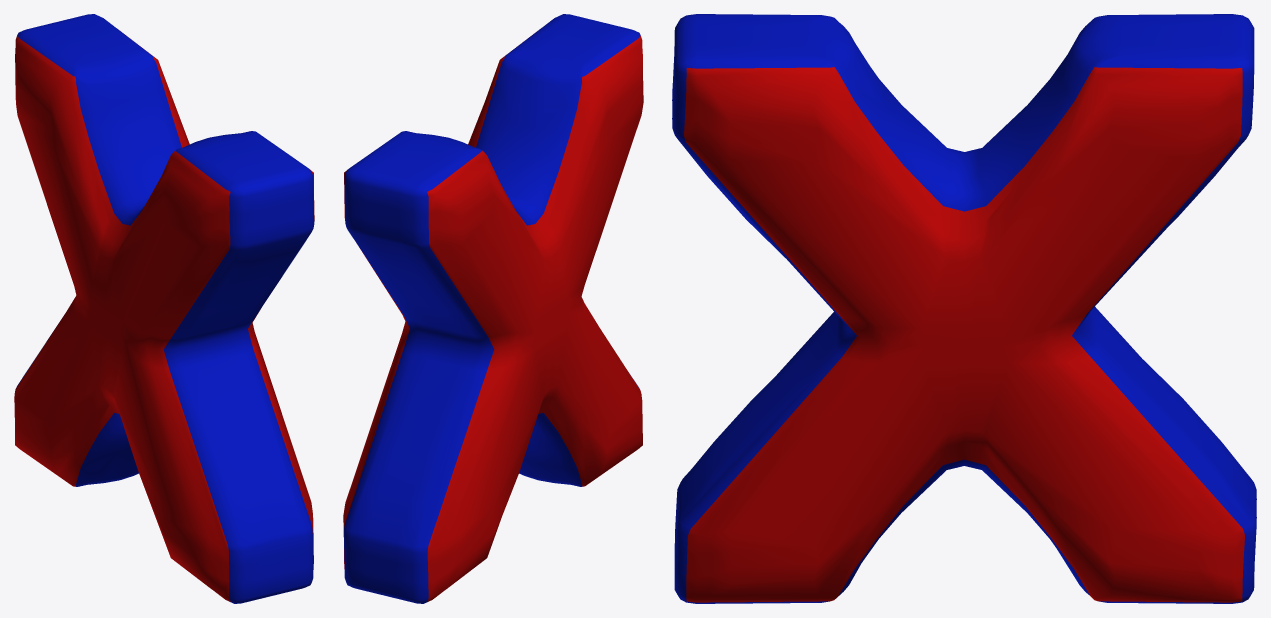
The model's file is X-Webview.glb.
3 renders of one model, left to right at view 1: azimuth 30°, elevation 25°; view 2: azimuth 150°, elevation 25°; view 3: azimuth 270°, elevation 25°, orthographic. The views are drawn at different scales.
Visible parts, largest first — view 1: X; view 2: X; view 3: X.
Boxes of the visible parts, x1,y1,x2,y2 form: X: (14,14,314,603); X: (343,14,643,603); X: (672,14,1256,603).
Size of the model in its own units: 1.33 by 4.59 by 4.45.
